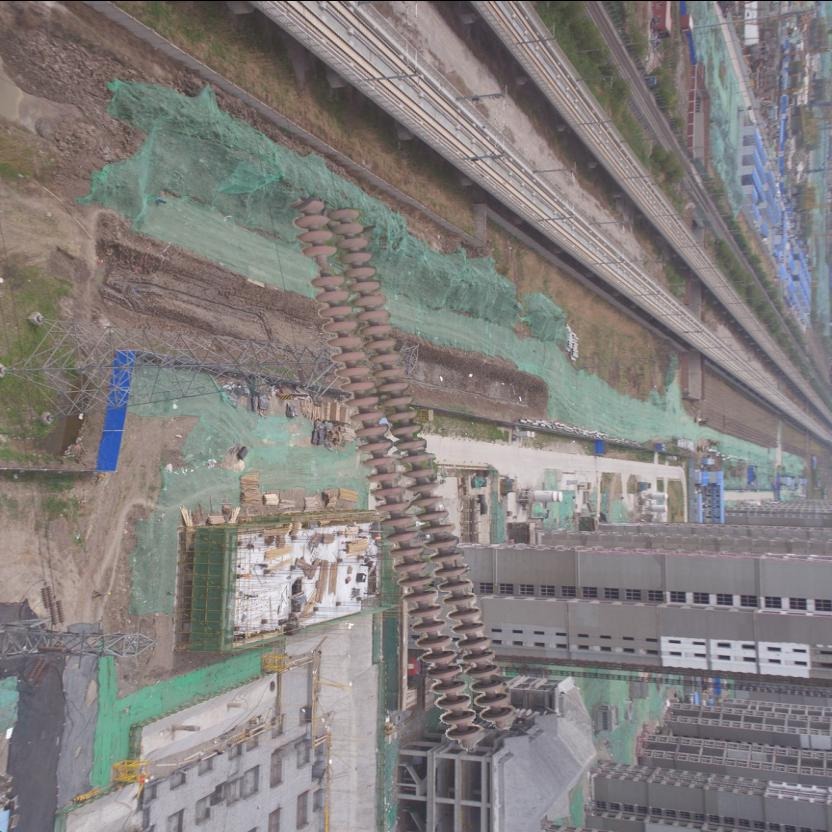defect: (304, 239, 350, 288)
